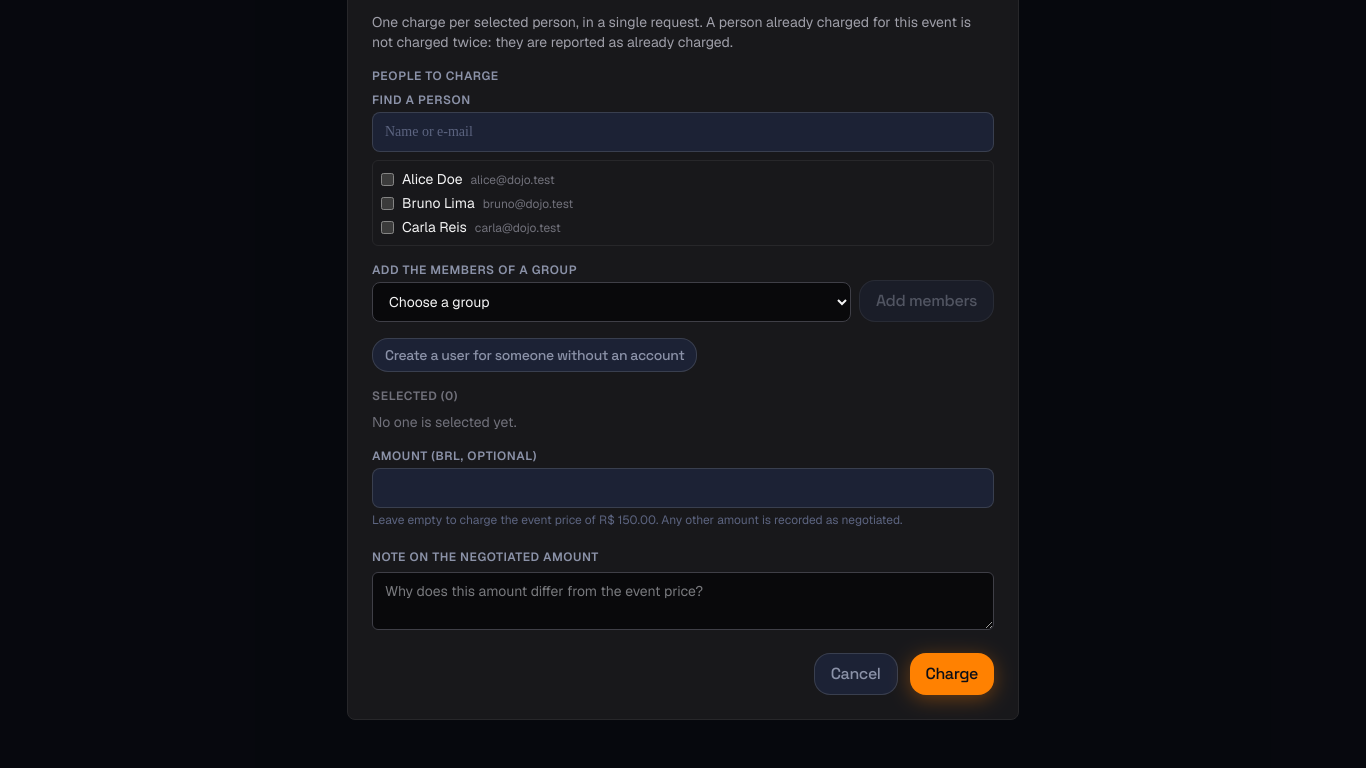
ChargeDialog › refuses to submit an empty selection
(page scrolled)
Click the button "Charge".
click(952, 674)  # box [910,653,994,695]
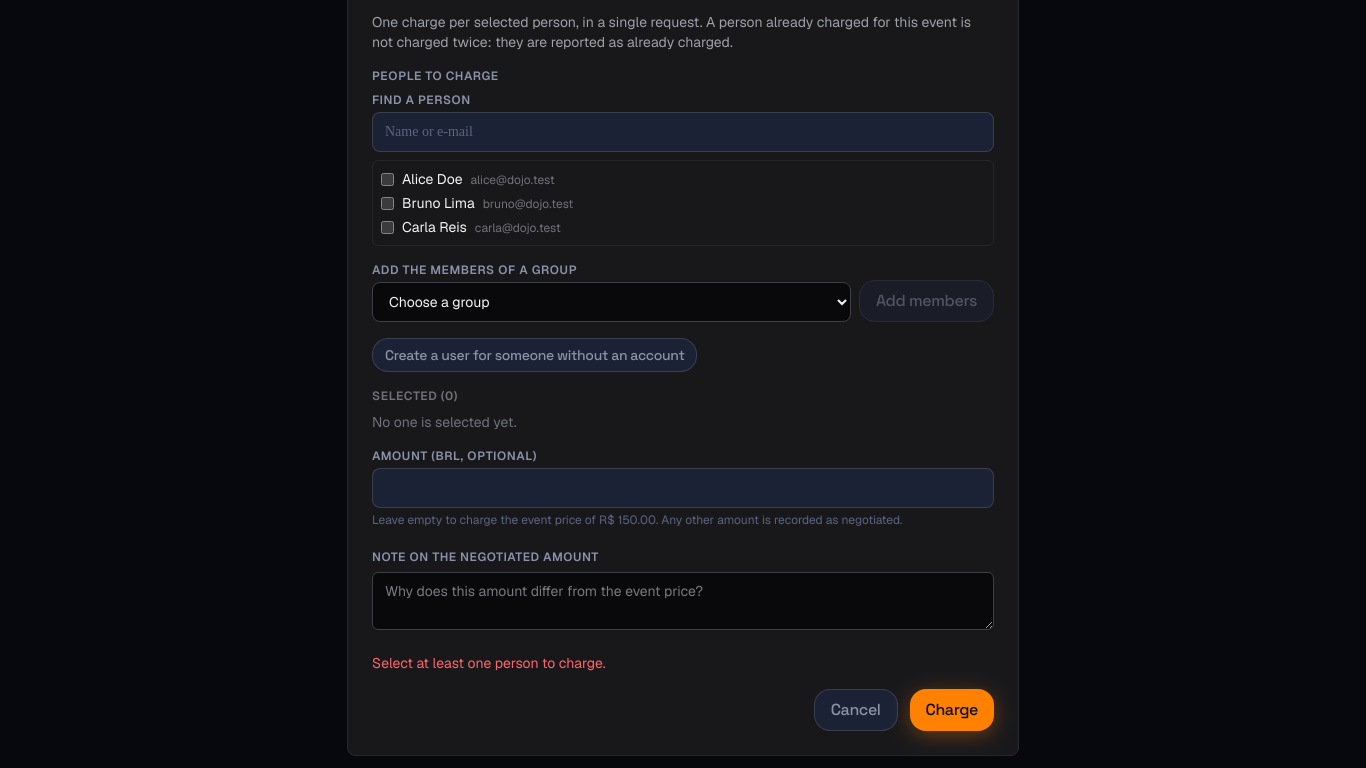
Expected: the text "Select at least one person to charge." is shown, [372,654,606,672]
